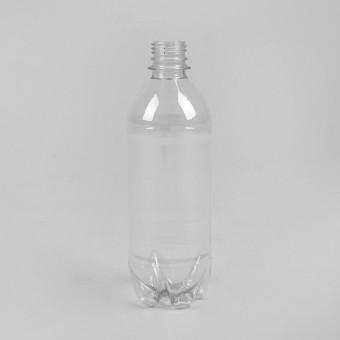bottle: (128, 36, 215, 306)
